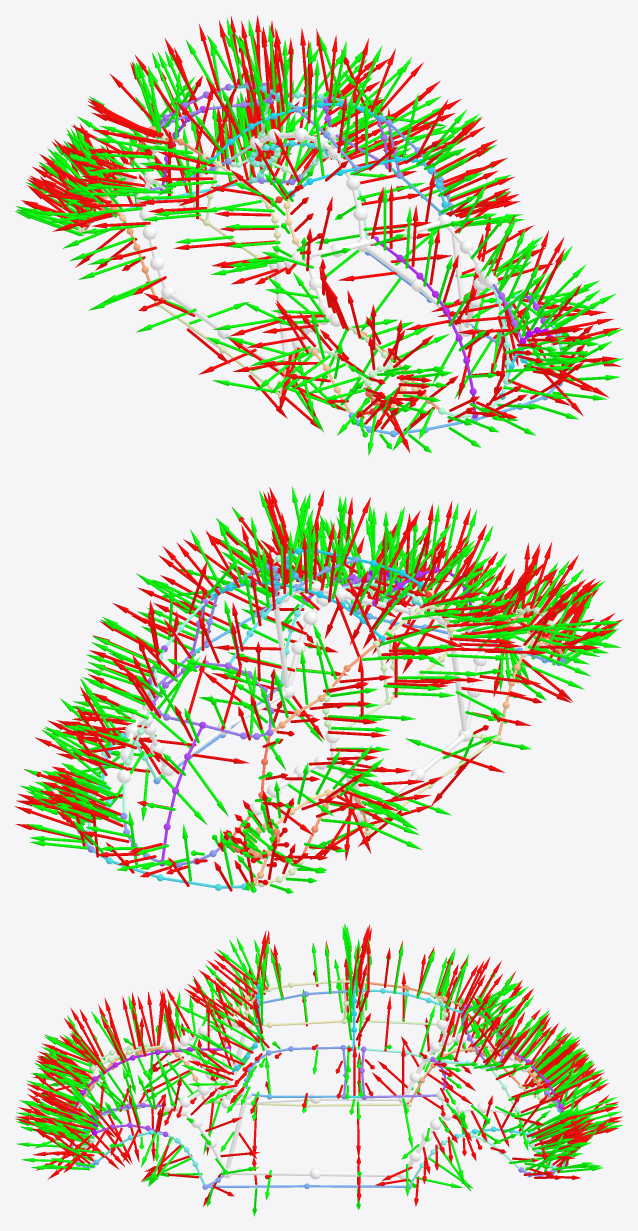
The model's file is flowsurf_beetle.gltf.
3 views of the same model, one above another, from view 1: azimuth 30°, elevation 25°; view 2: azimuth 150°, elevation 25°; view 3: azimuth 270°, elevation 25° (orthographic). The views are drawn at different scales.
Size of the model in its own units: 0.5583 by 0.4836 by 1.07.
